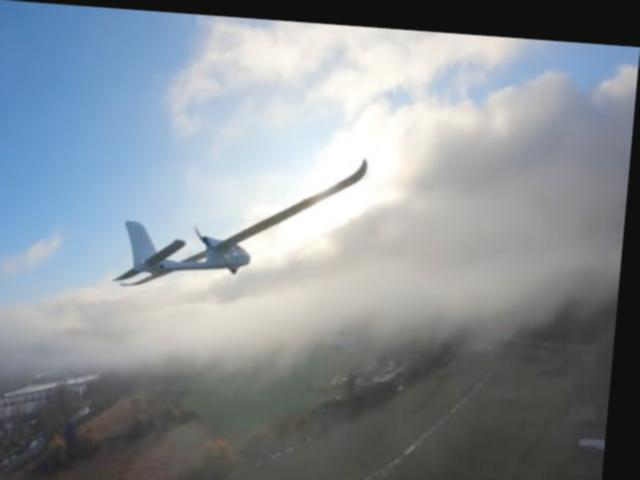uav: (105, 129, 387, 331)
